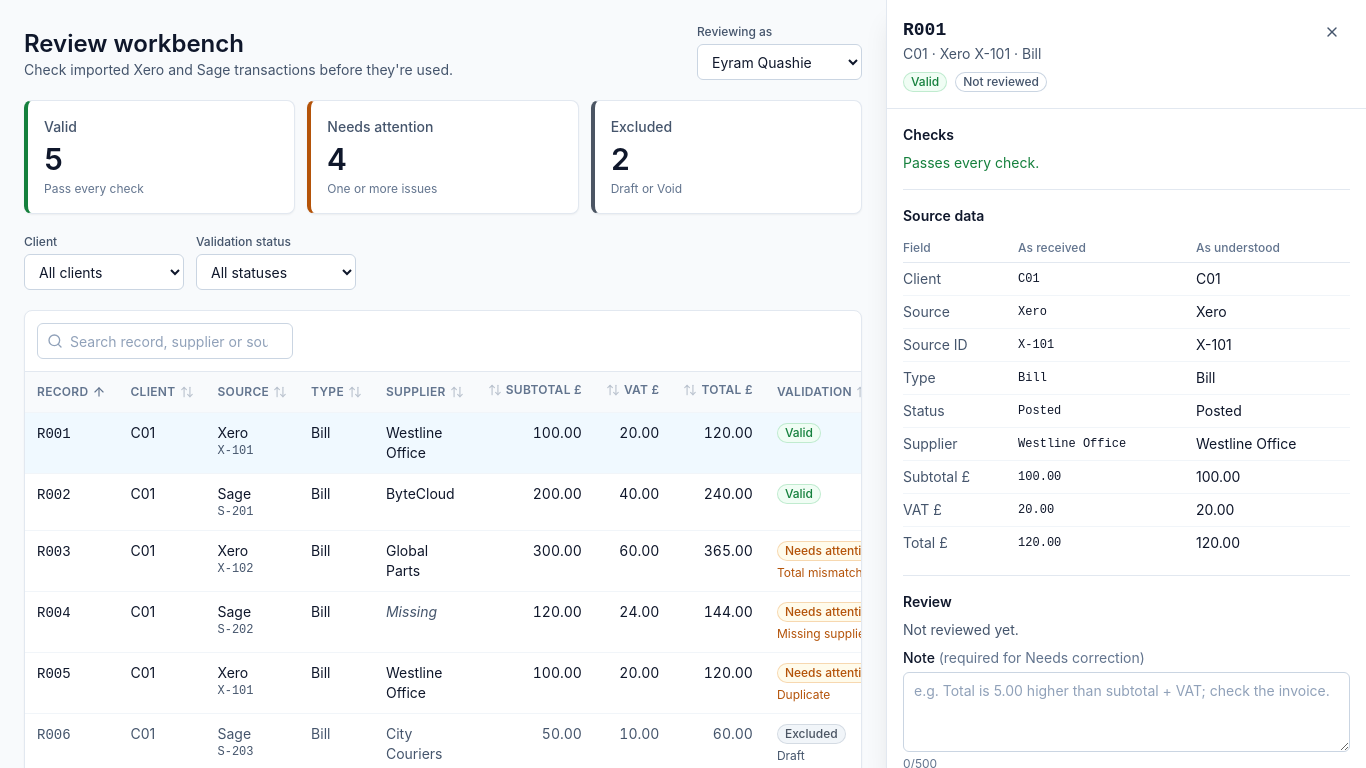
Test: Record detail panel › reviewing › sends the new version on the next action (Needs correction → Reviewed)
Later steps or results of the test are not shown.
expect the text "R001" is shown: met, box [37,426,71,442]
expect the dropdown labelled "Reviewing as" is enabled: met, box [697,44,862,80]
Type "Check with client" into the text box labelled "Note (required for Needs correction)" at [1126, 712], box [903,672,1350,752]
(page scrolled)
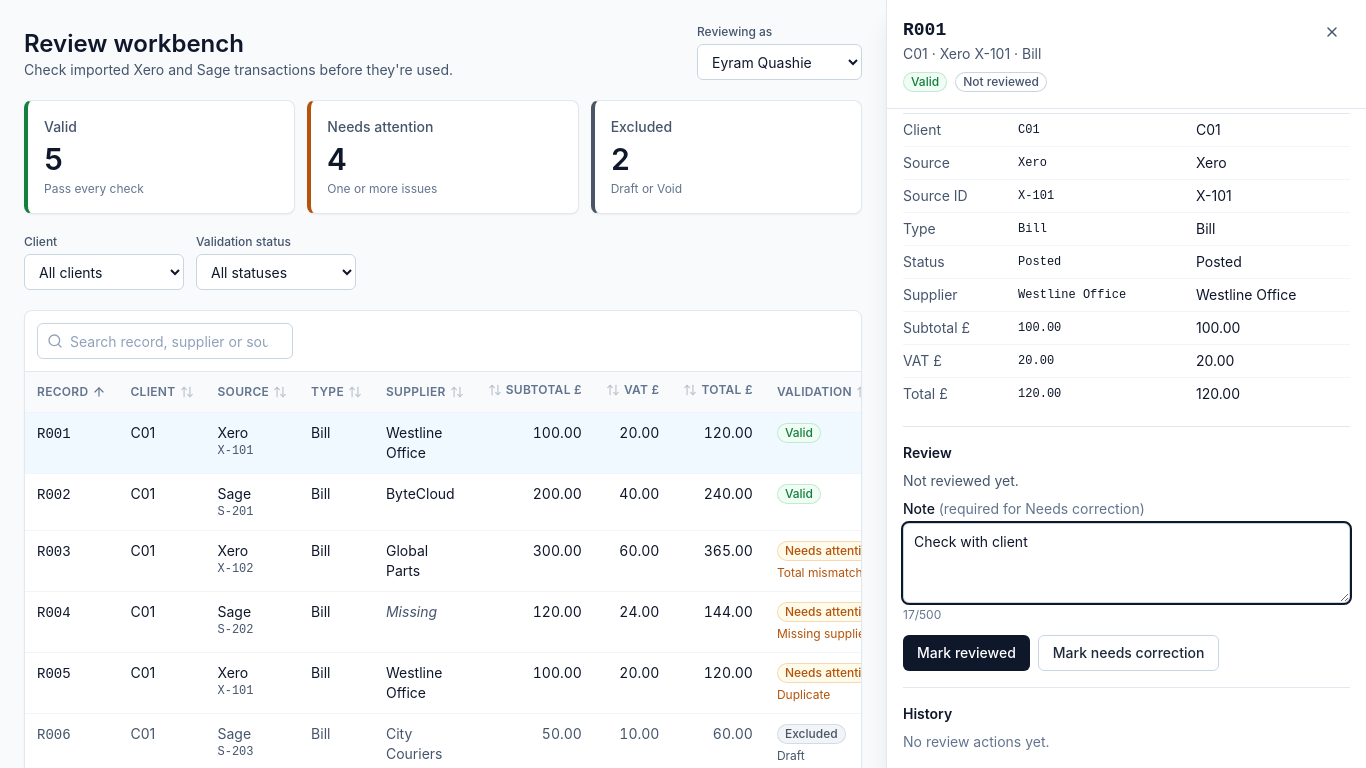
Click the button "Mark needs correction" at [1129, 653], box [1038,635,1219,671]
(page scrolled)
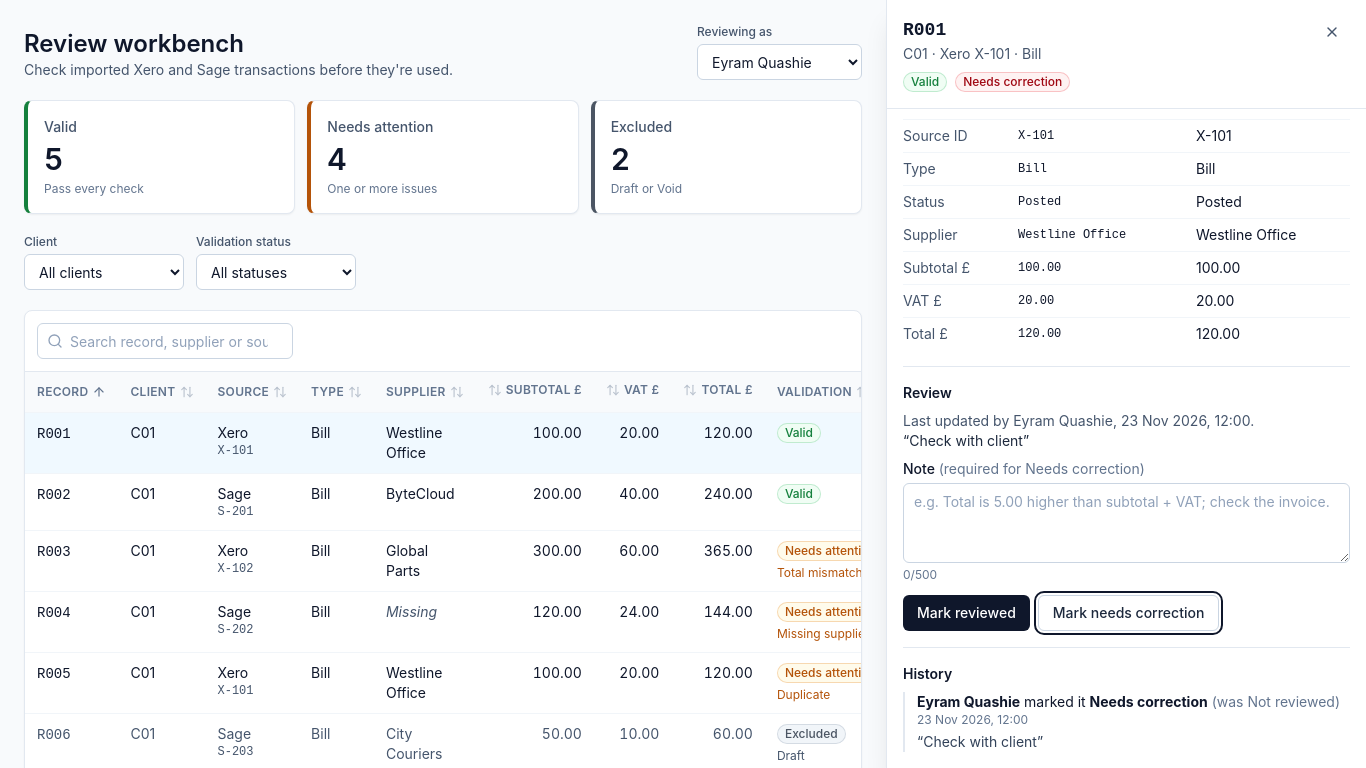
expect the text "“Check with client”" below "marked it" is shown: met, box [917,733,1043,750]
